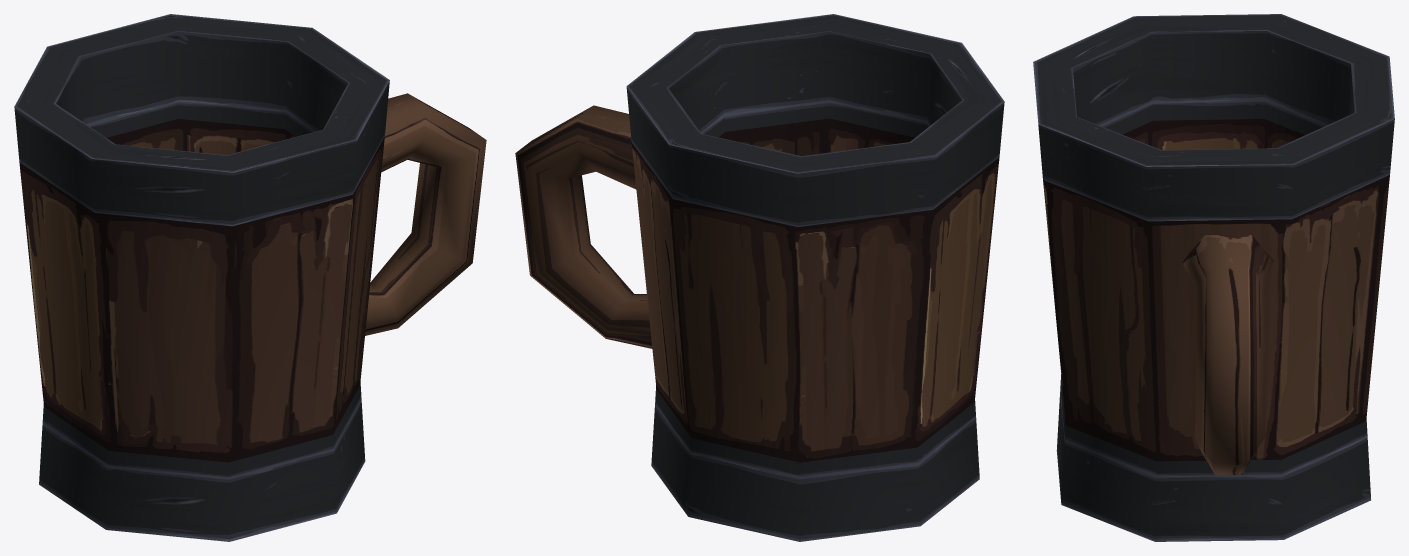
Rendered from SM_PROP_cup_dungeon_03.fbx.
3 renders of one model, left to right at view 1: azimuth 30°, elevation 25°; view 2: azimuth 150°, elevation 25°; view 3: azimuth 270°, elevation 25°, orthographic.
Parts seen in each view (by area): view 1: SM_PROP_cup_dungeon_03; view 2: SM_PROP_cup_dungeon_03; view 3: SM_PROP_cup_dungeon_03.
Boxes of the visible parts, x1=… form: SM_PROP_cup_dungeon_03: x1=14, y1=14, x2=486, y2=541; SM_PROP_cup_dungeon_03: x1=515, y1=14, x2=1004, y2=541; SM_PROP_cup_dungeon_03: x1=1033, y1=14, x2=1394, y2=541.
Size of the model in its own units: 23.72 by 19.6 by 16.69.
